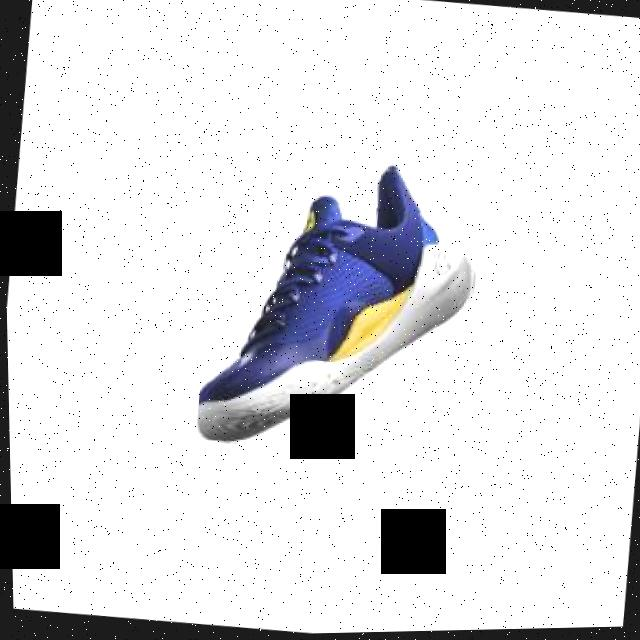shoe: (188, 148, 491, 467)
